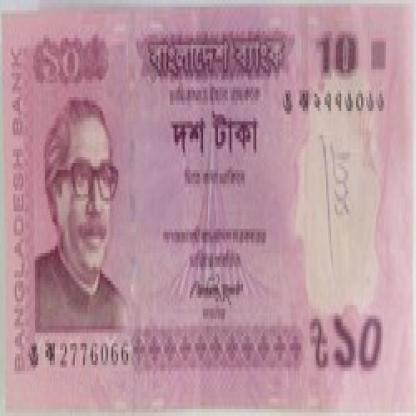Ten Taka: (328, 294, 399, 385), (311, 21, 378, 100), (38, 24, 100, 90)
